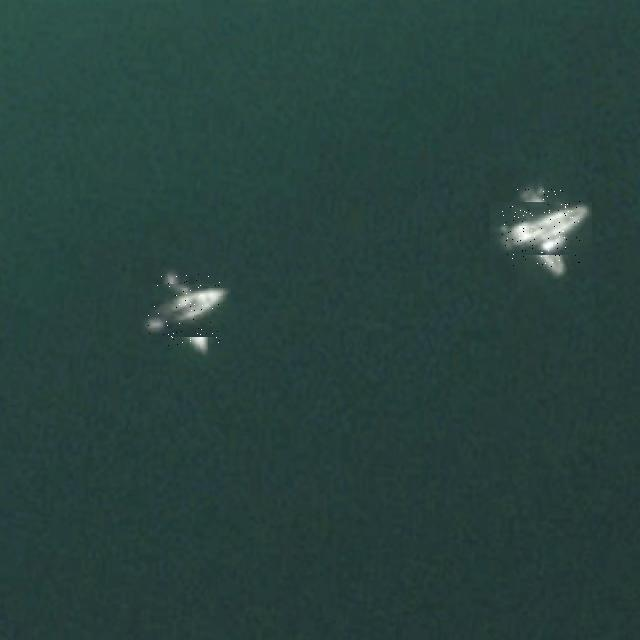boat: (502, 189, 580, 267), (148, 274, 222, 347)
